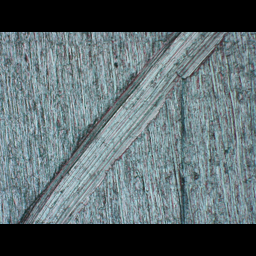d: (15, 32, 232, 223)
